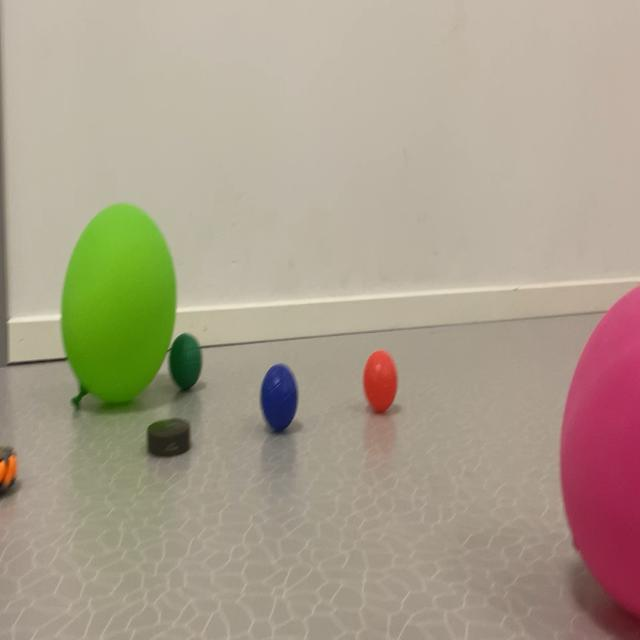7: (330, 305, 431, 456)
blue ball: (163, 296, 416, 451)
green ball: (232, 320, 321, 489)
red ball: (168, 311, 214, 437)
